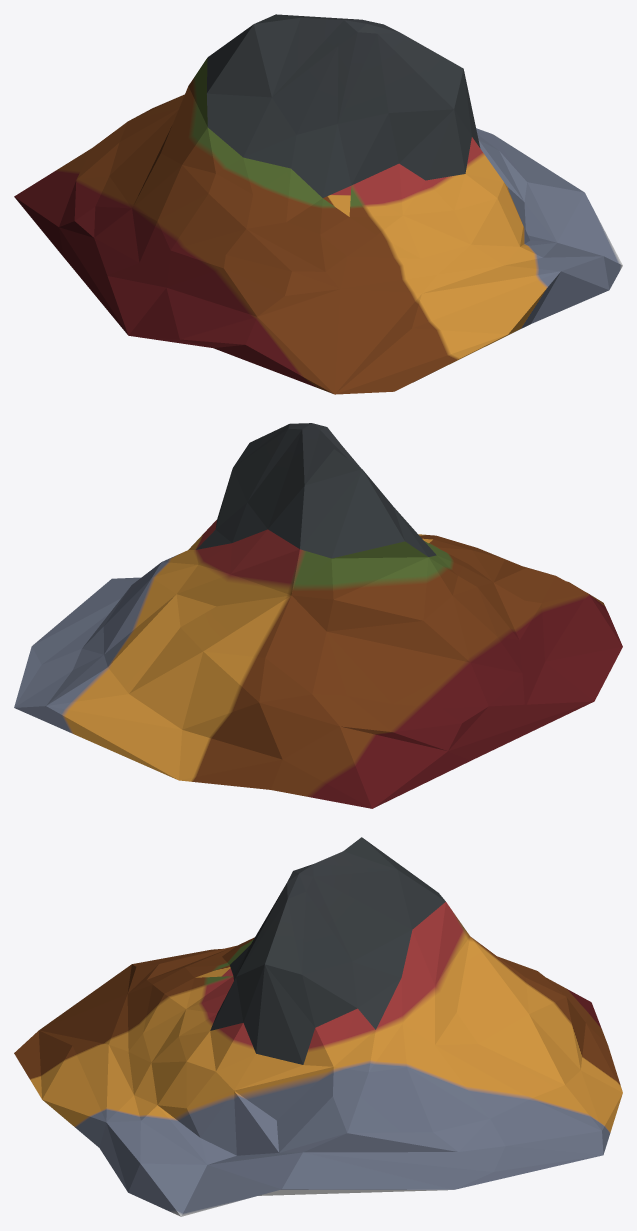
Rendered from Mountain_01.fbx.
3 renders of one model, top to bottom at view 1: azimuth 30°, elevation 25°; view 2: azimuth 150°, elevation 25°; view 3: azimuth 270°, elevation 25°, orthographic.
Parts seen in each view (by area): view 1: Mountain_01; view 2: Mountain_01; view 3: Mountain_01.
Part boxes in pixels (x1=…): Mountain_01: x1=14, y1=14, x2=622, y2=394; Mountain_01: x1=14, y1=423, x2=622, y2=808; Mountain_01: x1=14, y1=837, x2=622, y2=1216.
Bounding box in the file's own units: 71.67 × 36.28 × 80.37.
